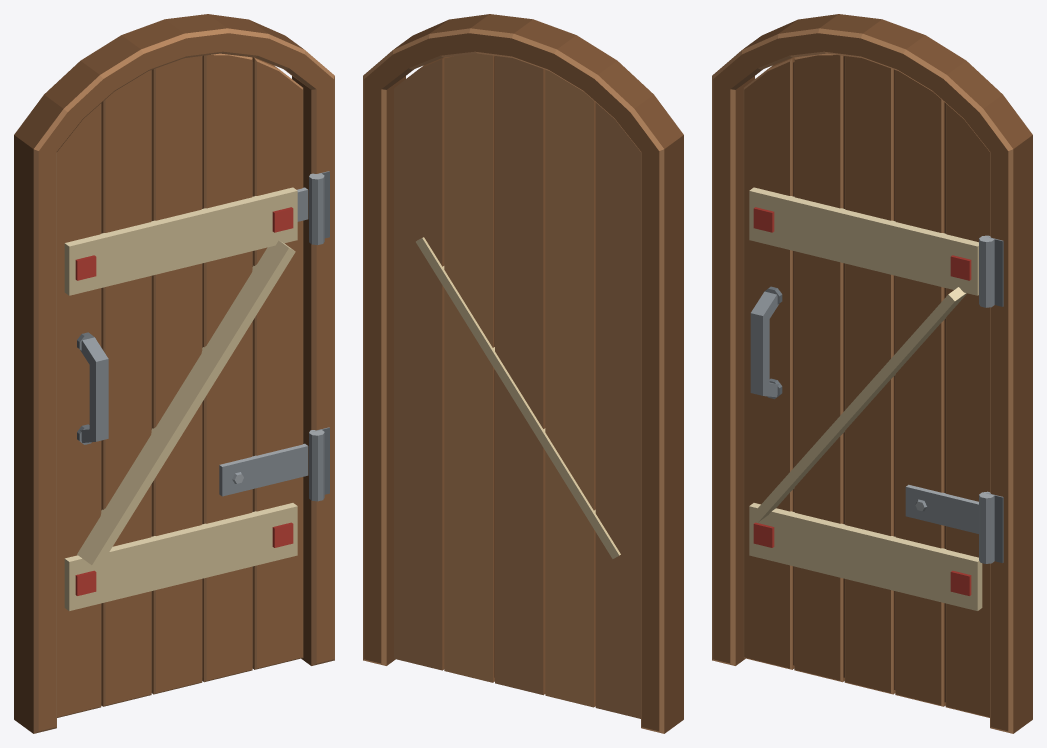
File: FMS_Workshop_MOD_09.fbx
3 views of the same model, side by side, from view 1: azimuth 30°, elevation 25°; view 2: azimuth 150°, elevation 25°; view 3: azimuth 330°, elevation 25° (orthographic).
Parts seen in each view (by area): view 1: FMS_Workshop_MOD_09_Leaf, FMS_Workshop_MOD_09_Body; view 2: FMS_Workshop_MOD_09_Leaf, FMS_Workshop_MOD_09_Body; view 3: FMS_Workshop_MOD_09_Leaf, FMS_Workshop_MOD_09_Body.
Boxes of the visible parts, x1=… form: FMS_Workshop_MOD_09_Leaf: x1=57, y1=53, x2=308, y2=717; FMS_Workshop_MOD_09_Body: x1=14, y1=14, x2=334, y2=733; FMS_Workshop_MOD_09_Leaf: x1=394, y1=53, x2=640, y2=718; FMS_Workshop_MOD_09_Body: x1=363, y1=14, x2=683, y2=733; FMS_Workshop_MOD_09_Leaf: x1=743, y1=53, x2=989, y2=717; FMS_Workshop_MOD_09_Body: x1=712, y1=14, x2=1032, y2=733.
Bounding box in the file's own units: 0.96 × 2.02 × 0.185.
Materials: 1 (1 with a texture image).
